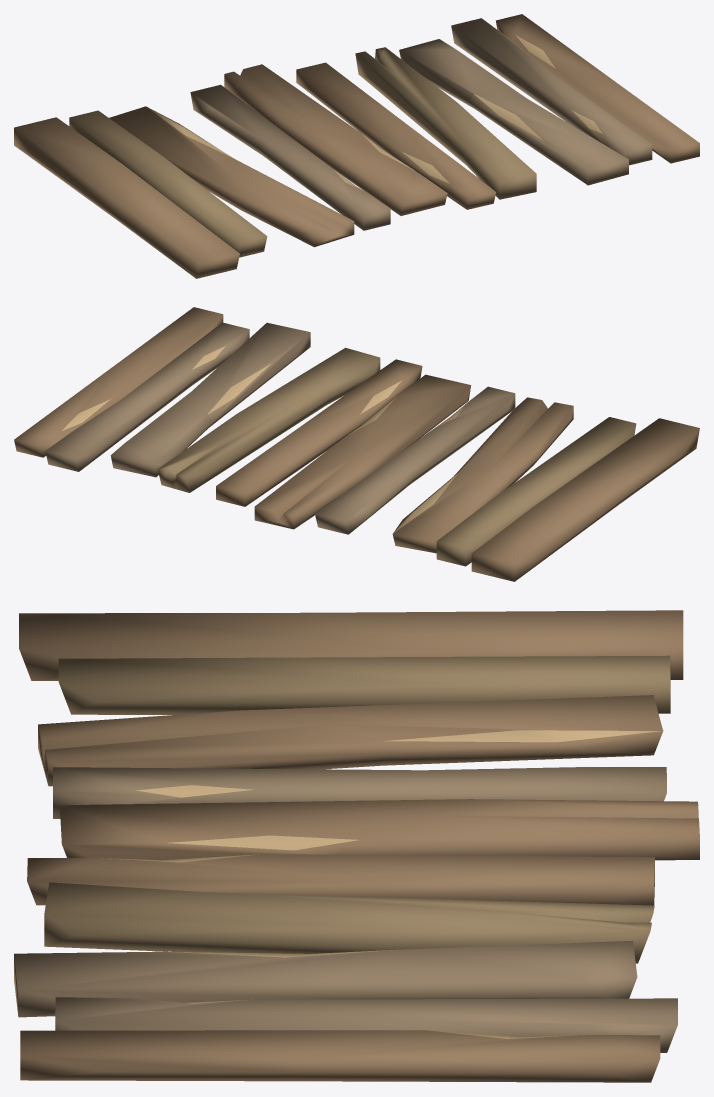
File: rpgpp_lt_wood_path_01a.glb
The picture shows the model from 3 angles, top to bottom: view 1: azimuth 30°, elevation 25°; view 2: azimuth 150°, elevation 25°; view 3: azimuth 270°, elevation 25°; orthographic projection. The views are drawn at different scales.
Parts seen in each view (by area): view 1: rpgpp_lt_wood_path_01a; view 2: rpgpp_lt_wood_path_01a; view 3: rpgpp_lt_wood_path_01a.
Boxes of the visible parts, box(x1,y1,x2,y2) form: rpgpp_lt_wood_path_01a: box(14, 14, 699, 278); rpgpp_lt_wood_path_01a: box(14, 307, 699, 581); rpgpp_lt_wood_path_01a: box(14, 610, 699, 1082).
Bounding box in the file's own units: 4.47 × 0.1648 × 2.89.
Materials: 1 (1 with a texture image).
